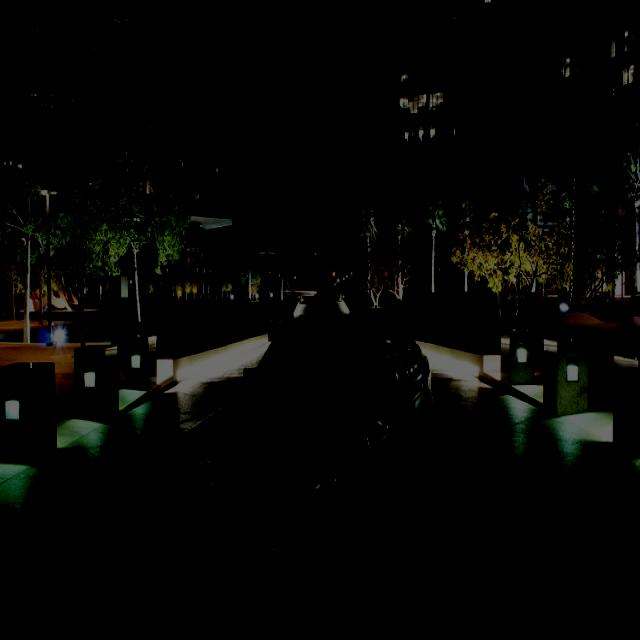Car: (168, 314, 434, 568)
